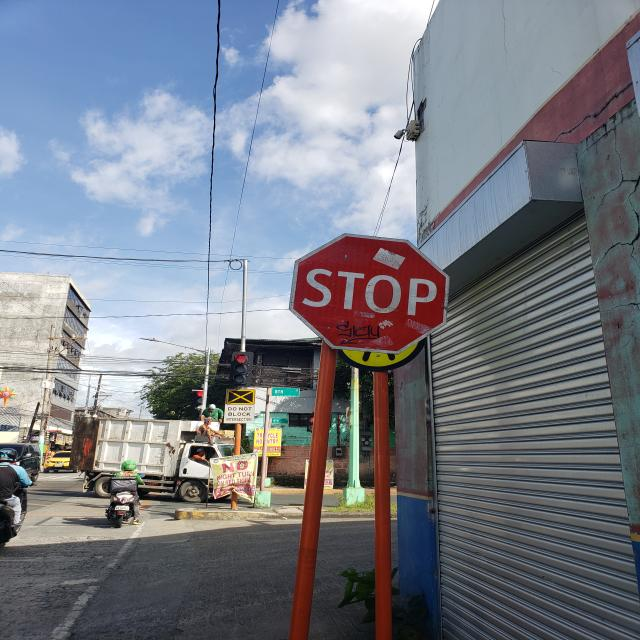stop-sign: (288, 232, 450, 354)
